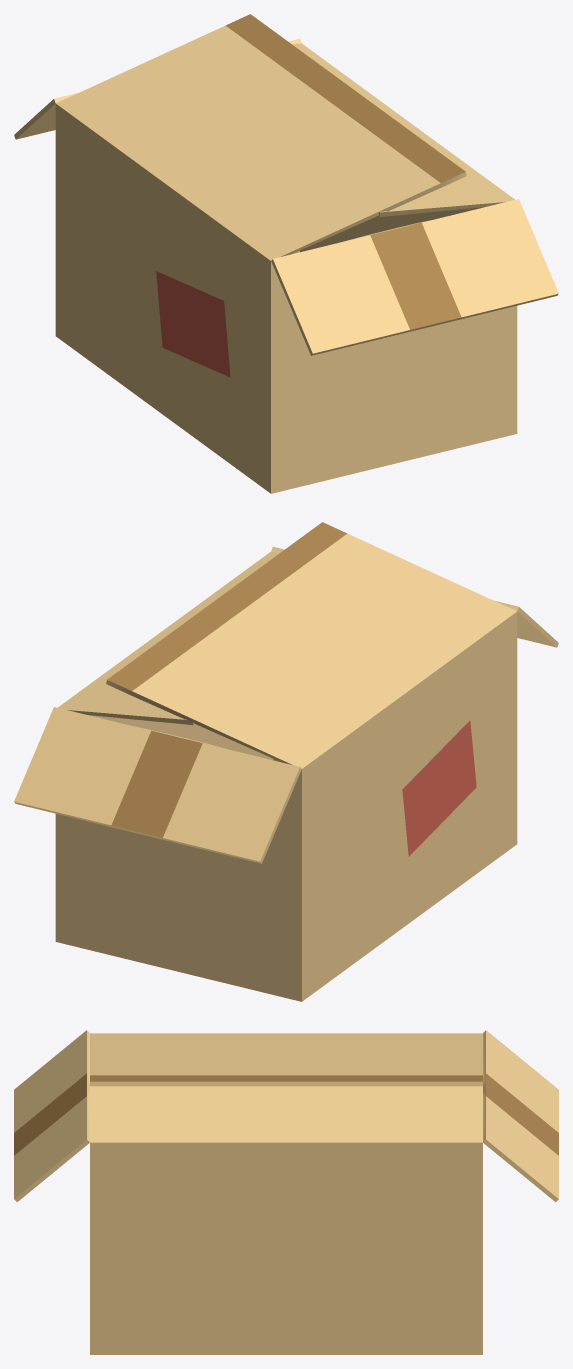
The model's file is Asset014_Packdeitens01_Caixa01.fbx.
3 views of the same model, one above another, from view 1: azimuth 30°, elevation 25°; view 2: azimuth 150°, elevation 25°; view 3: azimuth 270°, elevation 25° (orthographic). The views are drawn at different scales.
Visible parts, largest first — view 1: Caixa02; view 2: Caixa02; view 3: Caixa02.
Part boxes in pixels (<box>): Caixa02: <box>14,14,558,493</box>; Caixa02: <box>14,522,558,1001</box>; Caixa02: <box>14,1030,558,1354</box>.
Size of the model in its own units: 86.71 by 92.47 by 182.
